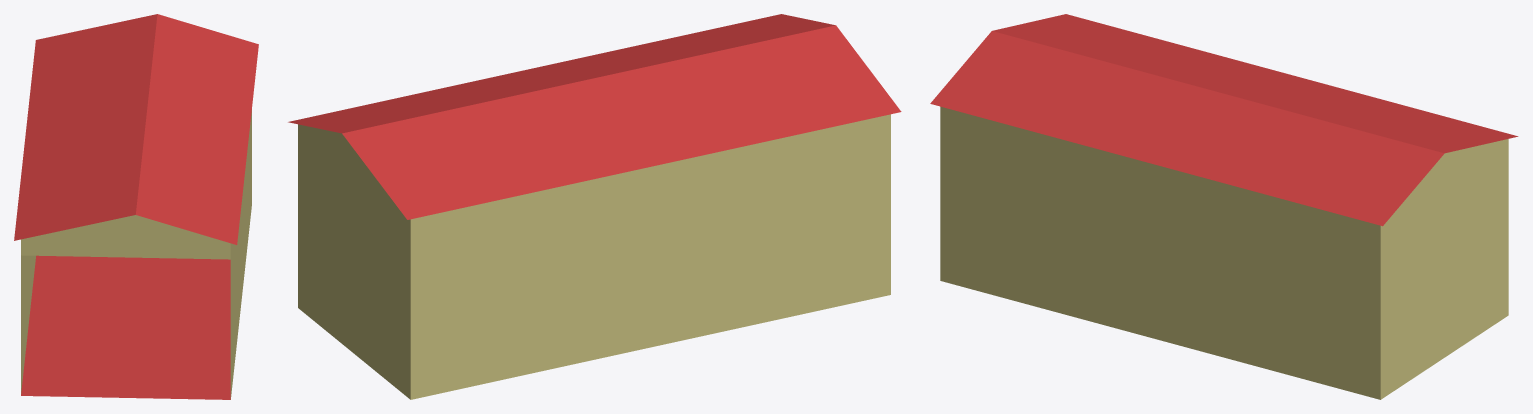
The picture shows the model from 3 angles, left to right: view 1: azimuth 30°, elevation 25°; view 2: azimuth 150°, elevation 25°; view 3: azimuth 270°, elevation 25°; orthographic projection. The views are drawn at different scales.
Size of the model in its own units: 16.76 by 19.64 by 7.73.
